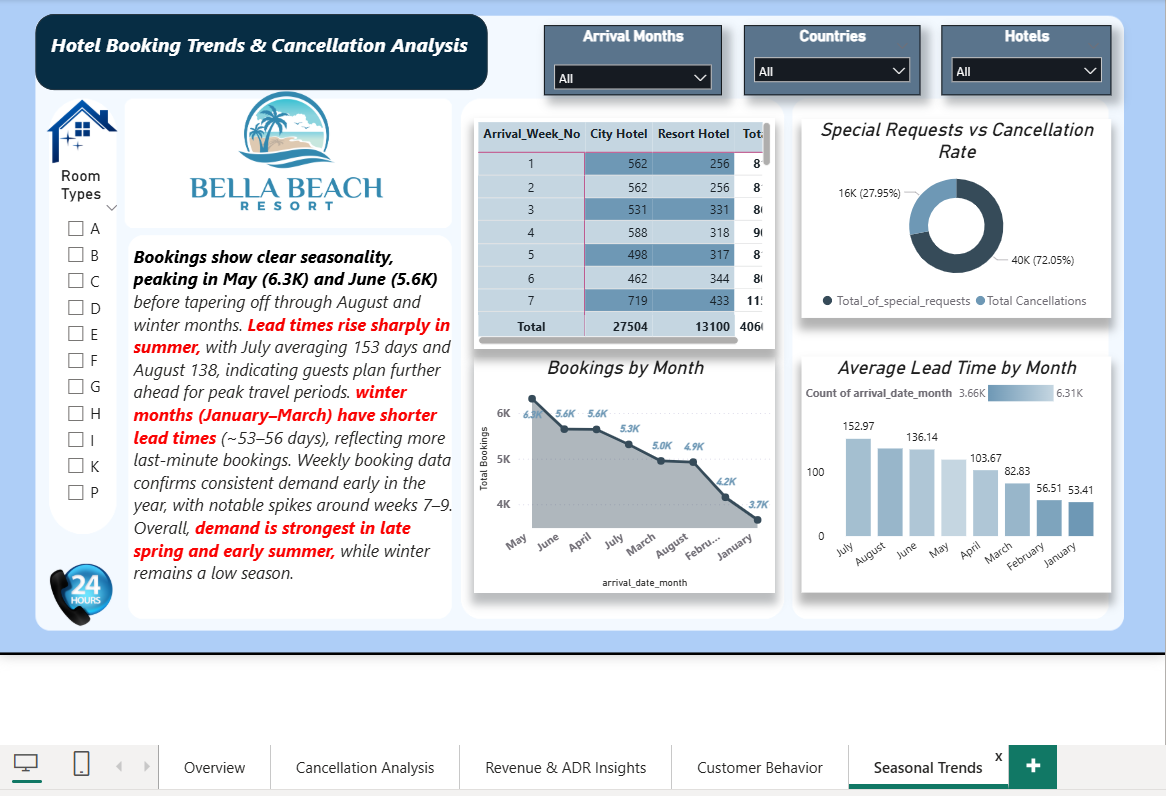

The dashboard page shown, as its layout file describes it:
{"tool":"powerbi","page":{"name":"Seasonal Trends","canvas":[1280,720],"ordinal":4},"visuals":[{"type":"slicer","title":"Hotels","fields":{"Values":["hotel_revenue.hotel"]},"box":[655.8,166.3,293,59.3],"z":0},{"type":"slicer","title":"Countries","fields":{"Values":["hotel_revenue.Country Full Name"]},"box":[333.7,166.3,293,59.3],"z":1000},{"type":"textbox","box":[82.2,0,1115.9,86.3],"z":2000},{"type":"slicer","title":"Arrival Months","fields":{"Values":["hotel_revenue.arrival_date_month"]},"box":[12.8,166.3,293,59.3],"z":3000},{"type":"image","box":[12.8,0,181.4,173.3],"z":4000},{"type":"cardVisual","fields":{"Data":["Measure.Avg Lead Time"]},"box":[735.8,63.3,242.6,102.4],"z":5000},{"type":"cardVisual","fields":{"Data":["Measure.Cancellation Rate"]},"box":[458.2,63.3,239.9,102.4],"z":6000},{"type":"cardVisual","fields":{"Data":["Measure.Total Bookings"]},"box":[202.1,62,222.4,102.4],"z":7000},{"type":"cardVisual","fields":{"Data":["Measure.Avg Daily Rate"]},"box":[1006.7,63.3,234.5,102.4],"z":8000},{"type":"slicer","title":"Room Type","fields":{"Values":["hotel_revenue.assigned_room_type"]},"box":[977.9,166.3,293,59.3],"z":9000},{"type":"clusteredBarChart","title":"Average Lead Time(Days) by Month","fields":{"Category":["hotel_revenue.arrival_date_month"],"Y":["Avg(hotel_revenue.lead_time)"]},"box":[12.1,250.7,671.1,258.8],"z":10000},{"type":"areaChart","title":"Bookings by Month","fields":{"Category":["hotel_revenue.arrival_date_month"],"Y":["Measure.Total Bookings"]},"box":[698.1,250.7,572.8,258.8],"z":11000},{"type":"pivotTable","fields":{"Rows":["hotel_revenue.arrival_date_week_number"],"Columns":["hotel_revenue.hotel"],"Values":["Measure.Total Bookings"]},"box":[125.3,531,419.1,188.7],"z":12000},{"type":"donutChart","title":"Special Requests vs Cancellation Rate","fields":{"Y":["CountNonNull(hotel_revenue.total_of_special_requests)","Measure.Total Cancellations"]},"box":[698.1,531,572.8,188.7],"z":13000}]}

Visuals, with their boxes on the page's 1280x720 design canvas (x1, y1, x2, y2). These are canvas units, not pixel positions in the 1166x796 screenshot, which may show the page scaled, cropped or inside an application window:
"Hotels" slicer: locate(656, 166, 949, 226)
"Countries" slicer: locate(334, 166, 627, 226)
textbox: locate(82, 0, 1198, 86)
"Arrival Months" slicer: locate(13, 166, 306, 226)
image: locate(13, 0, 194, 173)
cardVisual - Measure.Avg Lead Time: locate(736, 63, 978, 166)
cardVisual - Measure.Cancellation Rate: locate(458, 63, 698, 166)
cardVisual - Measure.Total Bookings: locate(202, 62, 424, 164)
cardVisual - Measure.Avg Daily Rate: locate(1007, 63, 1241, 166)
"Room Type" slicer: locate(978, 166, 1271, 226)
"Average Lead Time(Days) by Month" clusteredBarChart: locate(12, 251, 683, 510)
"Bookings by Month" areaChart: locate(698, 251, 1271, 510)
pivotTable - hotel_revenue.arrival_date_week_number x hotel_revenue.hotel: locate(125, 531, 544, 720)
"Special Requests vs Cancellation Rate" donutChart: locate(698, 531, 1271, 720)
